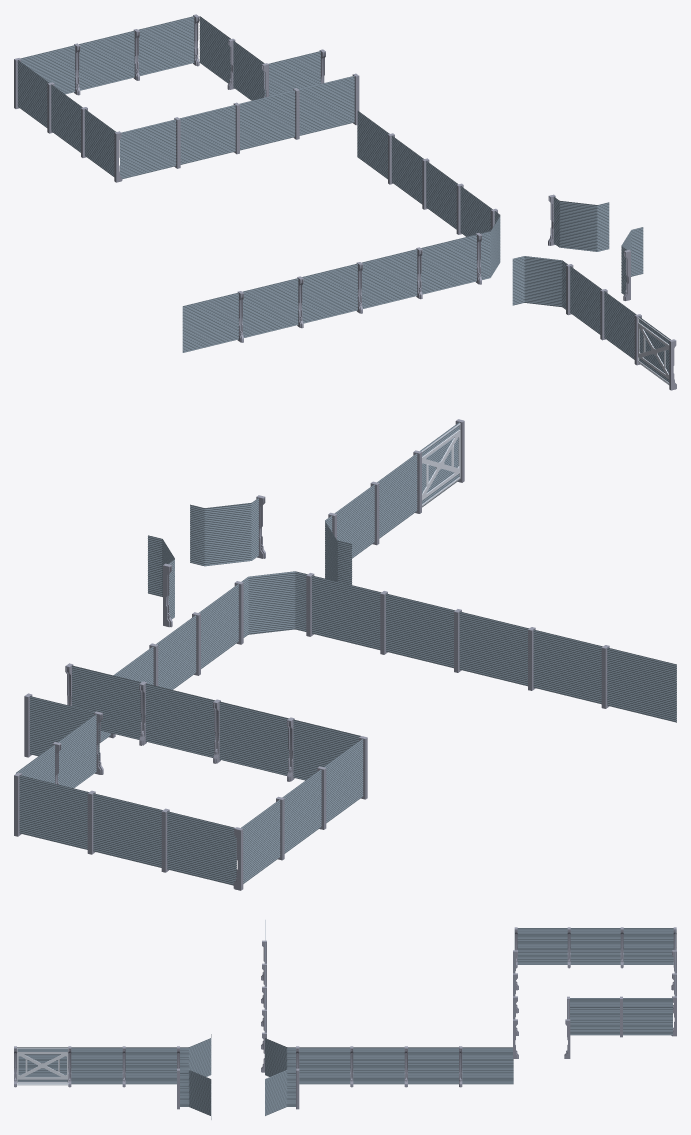
Rendered from MC_EX_Test_Wall.fbx.
3 views of the same model, one above another, from view 1: azimuth 30°, elevation 25°; view 2: azimuth 150°, elevation 25°; view 3: azimuth 270°, elevation 25° (orthographic). The views are drawn at different scales.
Parts seen in each view (by area): view 1: Wall; view 2: Wall; view 3: Wall.
Boxes of the visible parts, x1,y1,x2,y2 form: Wall: (14, 14, 676, 390); Wall: (14, 419, 676, 890); Wall: (14, 920, 676, 1119).
Bounding box in the file's own units: 3592 × 670 × 6113.
